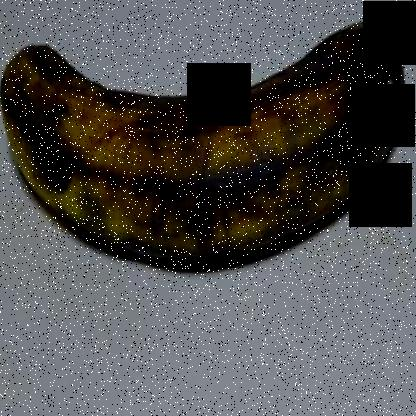overripe: (0, 0, 415, 282)
rotten: (319, 8, 414, 172)
